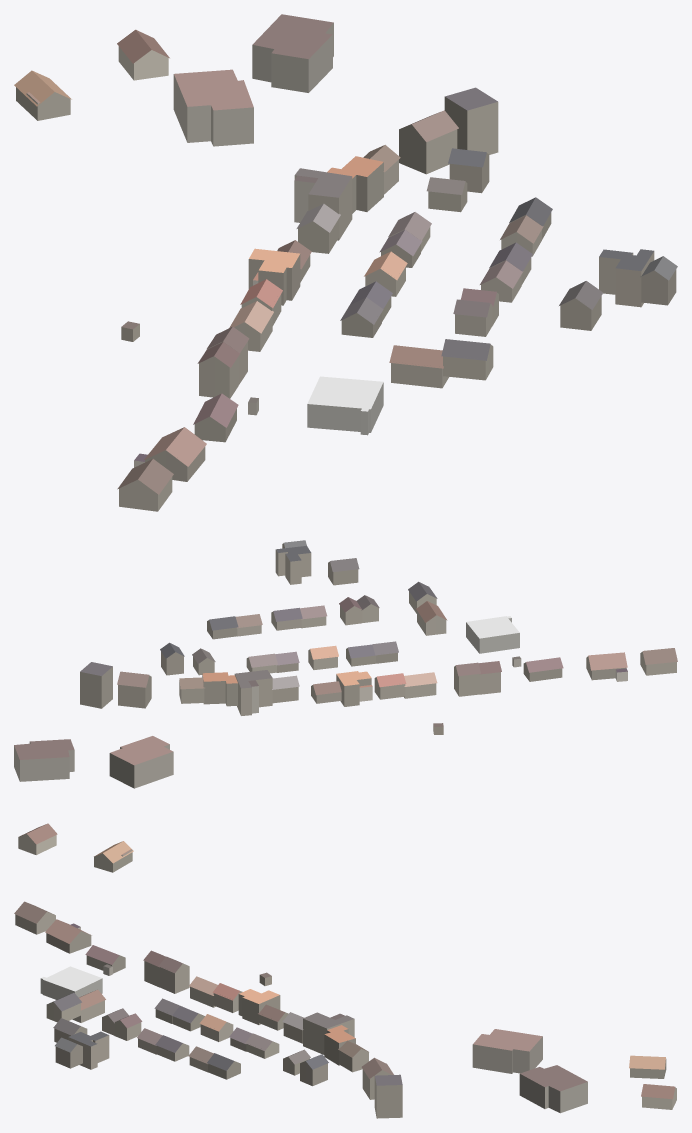
3 views of the same model, one above another, from view 1: azimuth 30°, elevation 25°; view 2: azimuth 150°, elevation 25°; view 3: azimuth 270°, elevation 25° (orthographic). The views are drawn at different scales.
Visible parts, largest first — view 1: tuile; view 2: tuile; view 3: tuile.
Part boxes in pixels (x1,y1,x2,y2): tuile: (14,14,677,511); tuile: (14,540,677,872); tuile: (14,901,676,1118).
Size of the model in its own units: 183 by 35.79 by 253.
